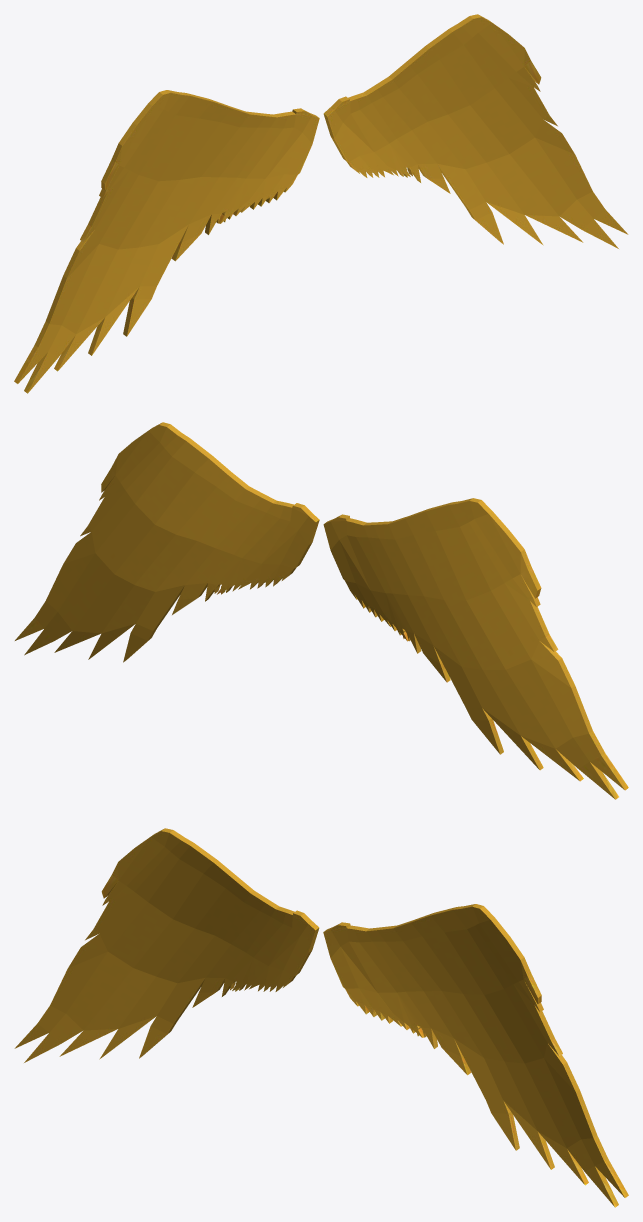
File: wings2.obj
3 views of the same model, one above another, from view 1: azimuth 30°, elevation 25°; view 2: azimuth 150°, elevation 25°; view 3: azimuth 330°, elevation 25° (orthographic).
Visible parts, largest first — view 1: LOW_POLY002, USE_WINGS; view 2: LOW_POLY002, USE_WINGS; view 3: USE_WINGS, LOW_POLY002.
Boxes of the visible parts, x1,y1,x2,y2 form: LOW_POLY002: (14, 90, 319, 393); USE_WINGS: (323, 14, 628, 248); LOW_POLY002: (323, 498, 628, 799); USE_WINGS: (15, 422, 319, 662); USE_WINGS: (323, 904, 628, 1207); LOW_POLY002: (14, 828, 319, 1062).
Size of the model in its own units: 94.77 by 39.23 by 4.09.
